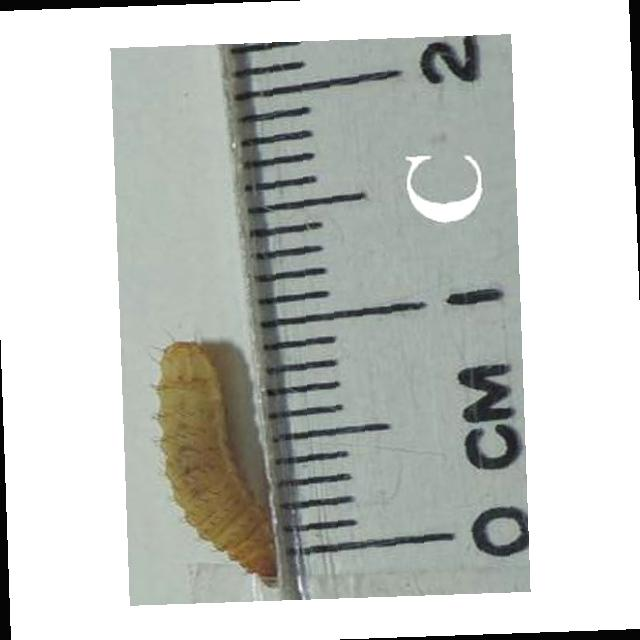Maggot: (151, 342, 280, 583)
